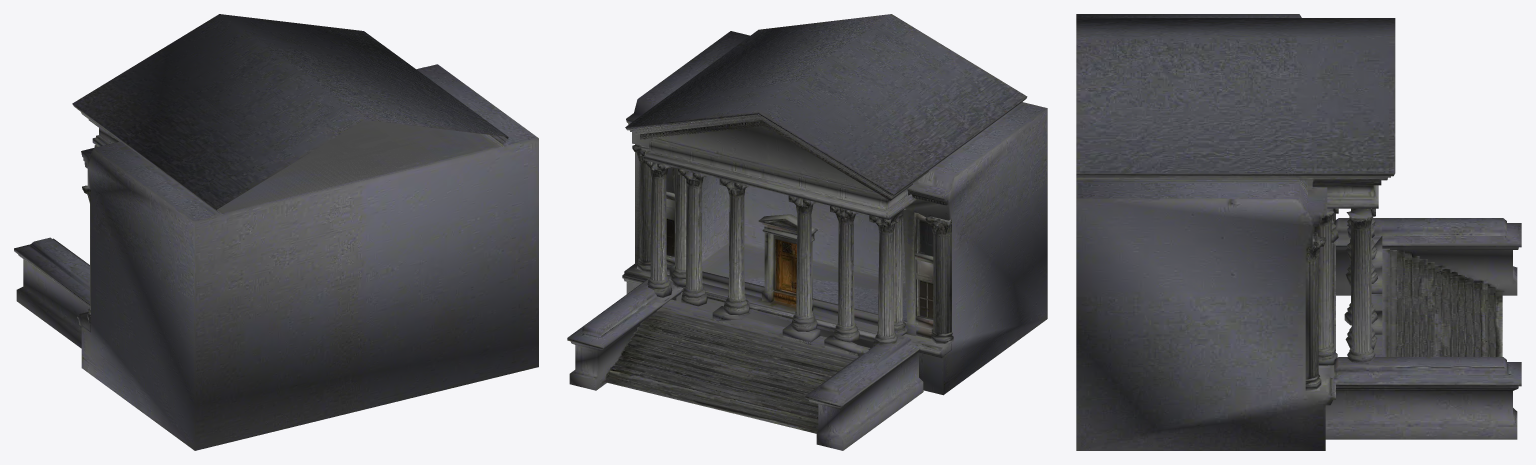
File: civic_building.glb
3 views of the same model, side by side, from view 1: azimuth 30°, elevation 25°; view 2: azimuth 150°, elevation 25°; view 3: azimuth 270°, elevation 25° (orthographic). The views are drawn at different scales.
Visible parts, largest first — view 1: civic_building; view 2: civic_building; view 3: civic_building.
Boxes of the visible parts, x1,y1,x2,y2 form: civic_building: (14,14,538,450); civic_building: (567,14,1047,450); civic_building: (1076,14,1521,450).
Size of the model in its own units: 18.69 by 15 by 18.83.
1 material, 1 textured.
